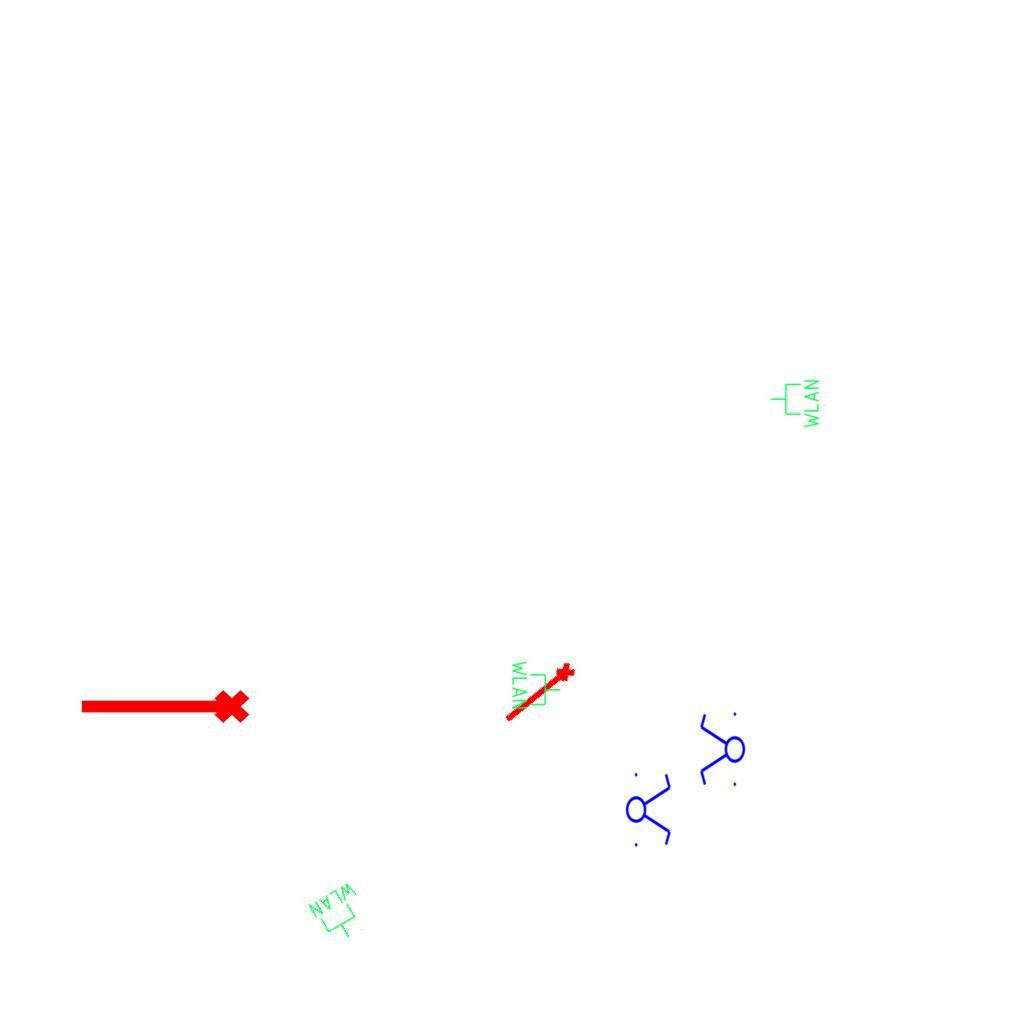ASR_Ansaugoeffnung: (76, 686, 252, 732), (498, 657, 582, 732)
Serienschalter: (698, 708, 746, 792), (625, 767, 673, 851)
WLAN: (305, 878, 377, 950), (769, 378, 821, 430), (510, 659, 562, 711)
